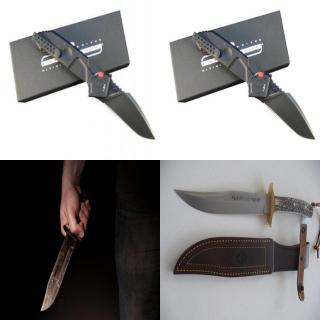knife: (38, 196, 90, 316), (169, 185, 271, 221), (97, 78, 156, 140), (257, 78, 316, 140)
